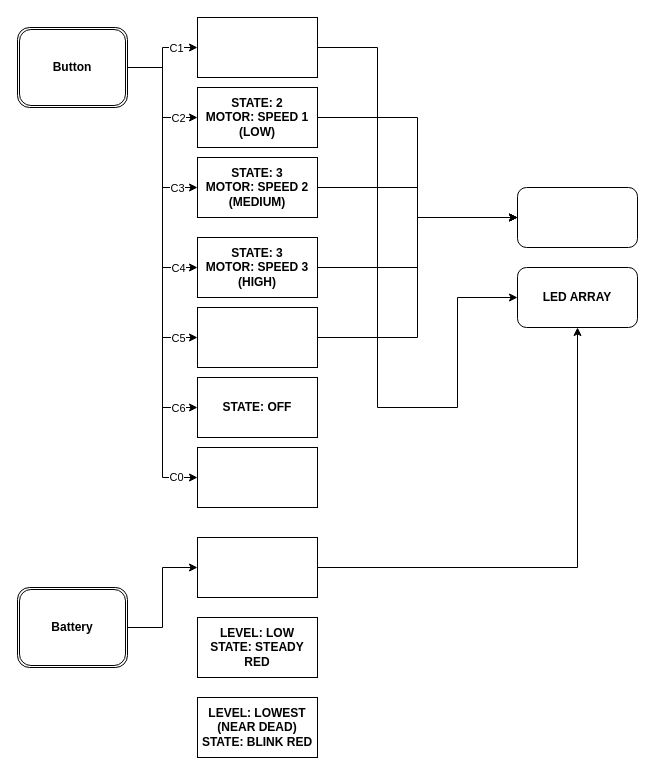
The diagram is 655 pixels wide and 775 high, and some of its shapes have lost their labels. The shapes that lost their labels are listed below. From the top down, each one's box as (x1, y1, x2, y2) in pixels, then its label:
(196, 16, 318, 78): STATE: 1 LED: RED
(516, 186, 638, 248): MOTOR
(196, 306, 318, 368): STATE: 4 MOTOR: SPEED 4 (PULSATING)
(196, 446, 318, 508): LONG PRESS (>2) STATE: OFF
(196, 536, 318, 598): LEVEL: LOWEST STATE: BLINK RED
